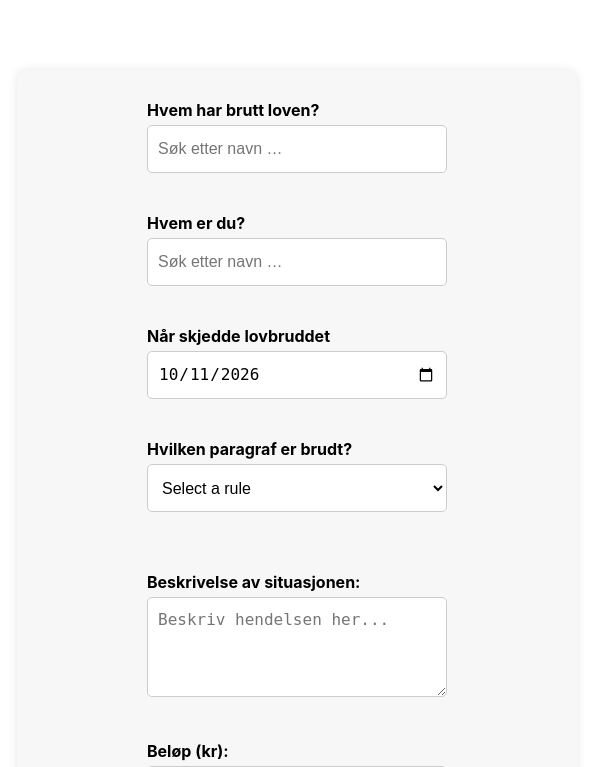
it: amounts can be adjusted manually and are refreshed when the paragraph changes
This screenshot has width=595, height=767.
Select "§ 1 Forfall (50)" in the dropdown labelled "Hvilken paragraf er brudt?" at (297, 488), box top-left (147, 464), bottom-right (447, 512)
(page scrolled)
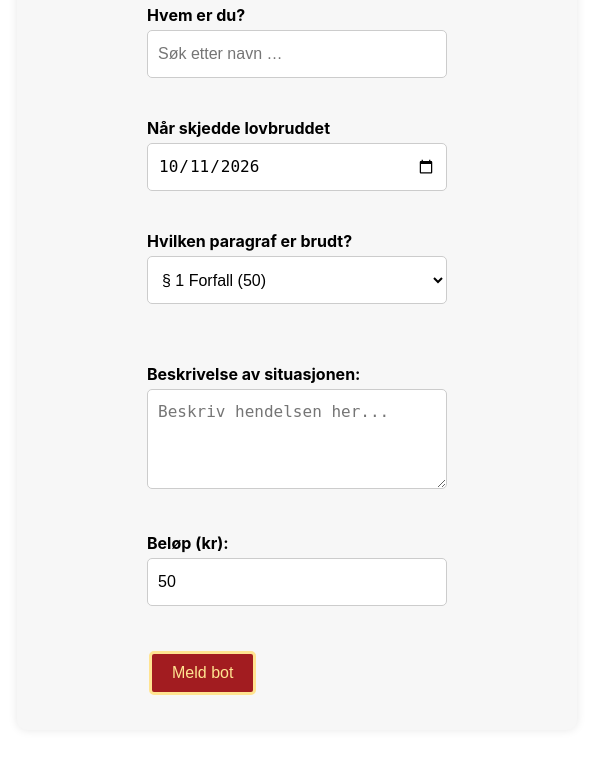
Replace the text in the number field labelled "Beløp (kr):" with "75" at (297, 582), box top-left (147, 558), bottom-right (447, 606)
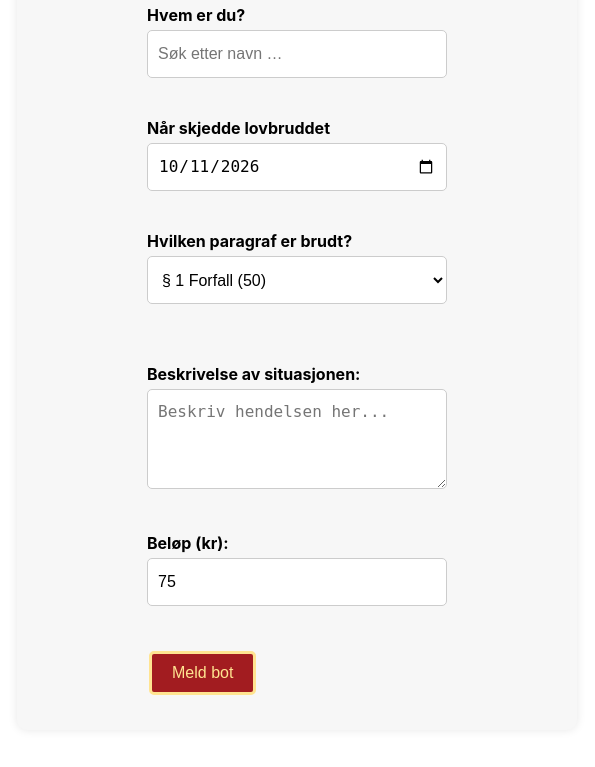
Type "Beskrivelse" into the text box labelled "Beskrivelse av situasjonen:" at (297, 439), box top-left (147, 389), bottom-right (447, 489)
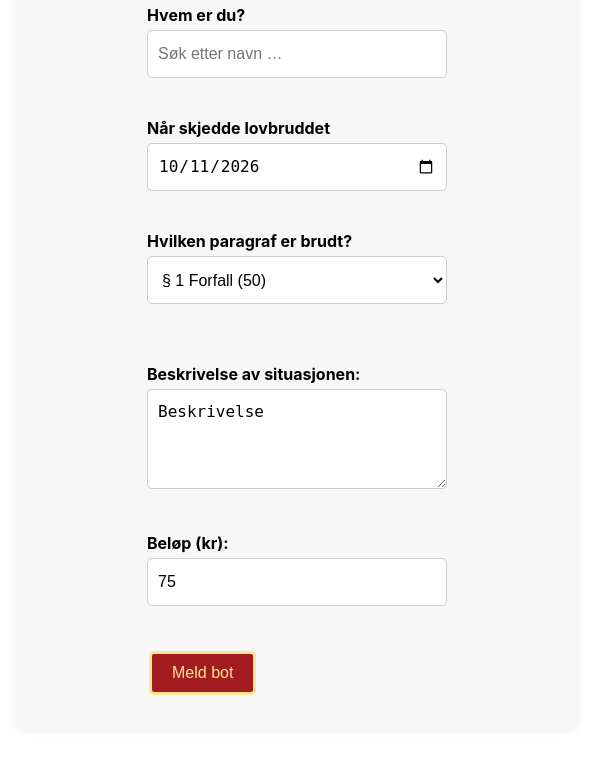
Select "§ 15b Frukt (350)" in the dropdown labelled "Hvilken paragraf er brudt?" at (297, 280), box top-left (147, 256), bottom-right (447, 304)
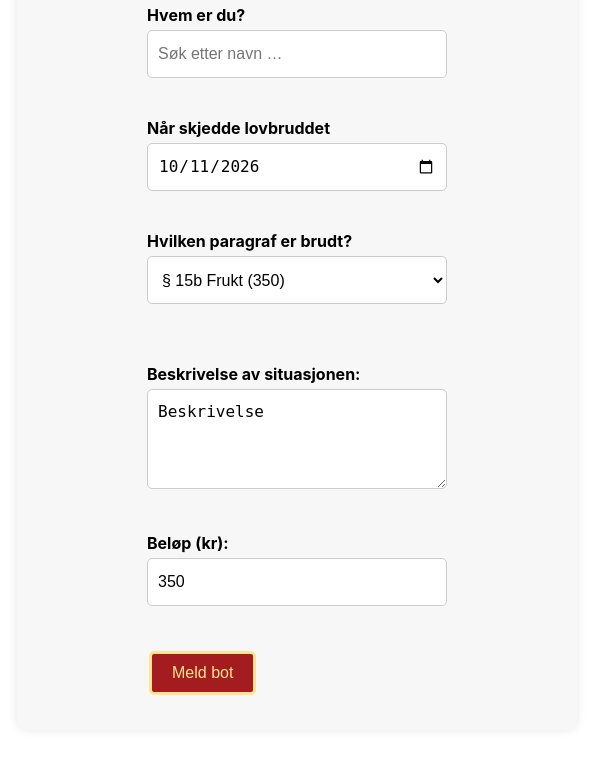
Expected: the number field labelled "Beløp (kr):" holds "350", top-left (147, 558), bottom-right (447, 606)
